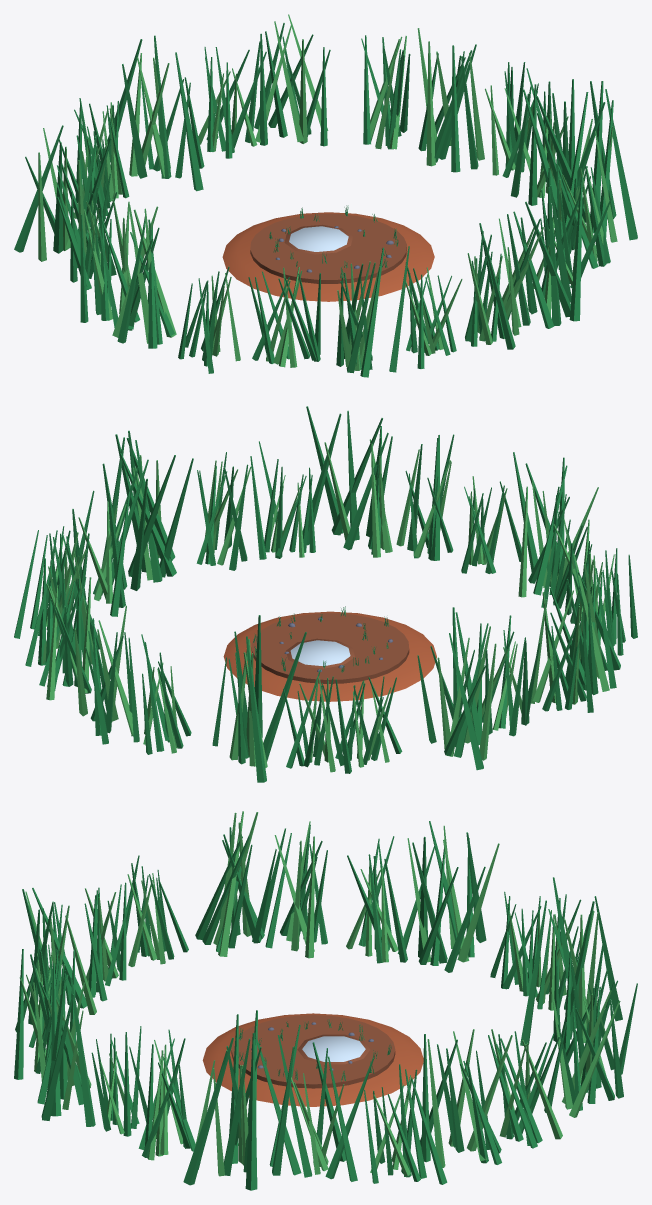
The model's file is bog_leech.glb.
3 views of the same model, one above another, from view 1: azimuth 30°, elevation 25°; view 2: azimuth 150°, elevation 25°; view 3: azimuth 270°, elevation 25° (orthographic). The views are drawn at different scales.
Parts seen in each view (by area): view 1: BogLeechGround; view 2: BogLeechGround; view 3: BogLeechGround.
Part boxes in pixels (<box>): BogLeechGround: <box>14,14,637,377</box>; BogLeechGround: <box>14,406,637,782</box>; BogLeechGround: <box>14,811,637,1190</box>.
Bounding box in the file's own units: 45.2 × 11.84 × 45.65.
1 material, 1 textured.
